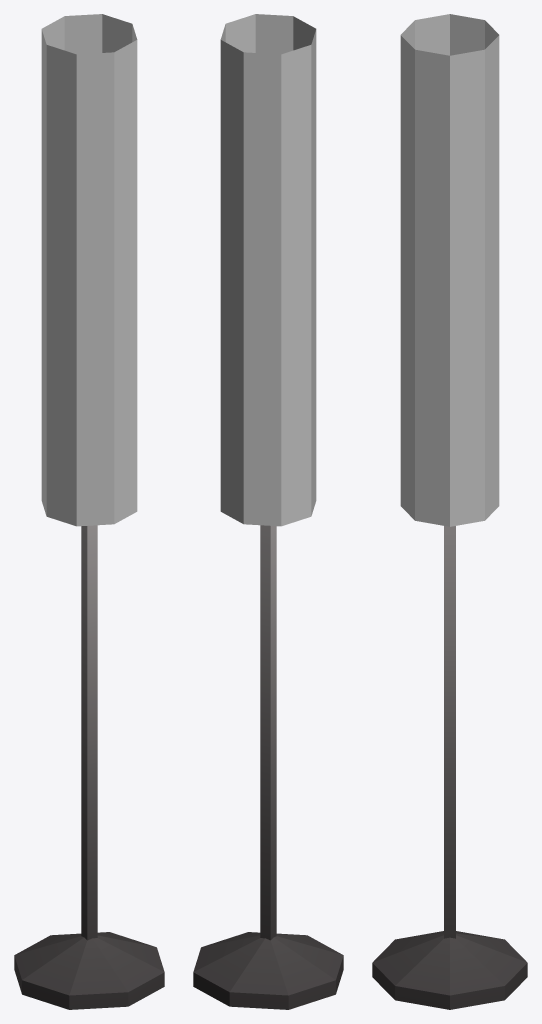
The model's file is Lamp_010.fbx.
3 renders of one model, left to right at view 1: azimuth 30°, elevation 25°; view 2: azimuth 150°, elevation 25°; view 3: azimuth 270°, elevation 25°, orthographic.
Parts seen in each view (by area): view 1: Lamp_010; view 2: Lamp_010; view 3: Lamp_010.
Part boxes in pixels (left/top/right/bottom): Lamp_010: left=14, top=14, right=164, bottom=1009; Lamp_010: left=193, top=14, right=343, bottom=1009; Lamp_010: left=372, top=14, right=527, bottom=1009.
Size of the model in its own units: 29.89 by 200 by 29.89.
